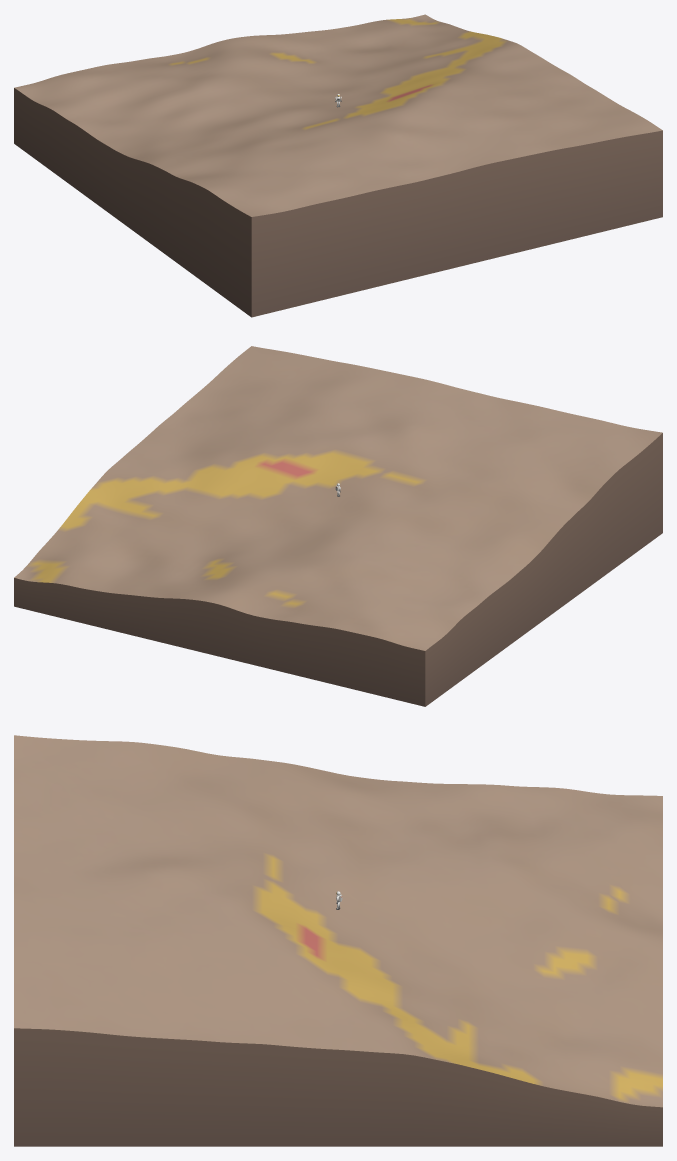
The model's file is wp3-ledges.glb.
3 views of the same model, one above another, from view 1: azimuth 30°, elevation 25°; view 2: azimuth 150°, elevation 25°; view 3: azimuth 270°, elevation 25° (orthographic). The views are drawn at different scales.
Parts seen in each view (by area): view 1: wp3-ledges; view 2: wp3-ledges; view 3: wp3-ledges.
Part boxes in pixels (box(x1,y1,x2,y2)): wp3-ledges: box(14, 14, 662, 317); wp3-ledges: box(14, 346, 662, 706); wp3-ledges: box(14, 735, 662, 1146).
Size of the model in its own units: 59.94 by 13.98 by 59.94.
